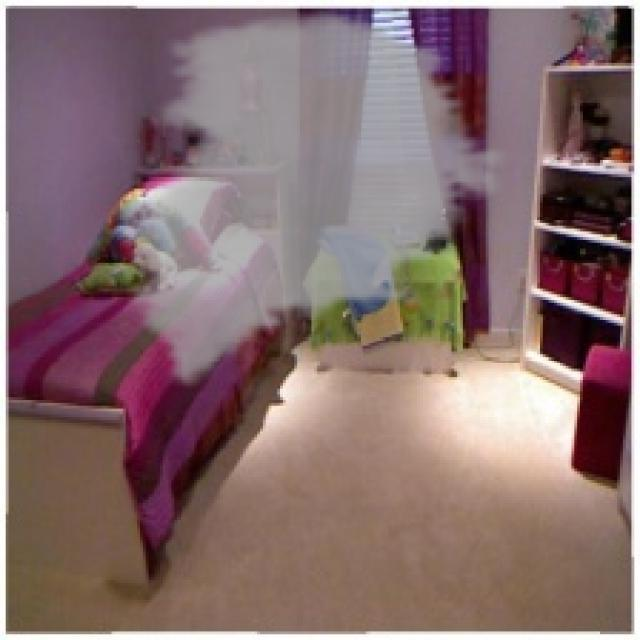Smoke: (100, 6, 514, 388)
